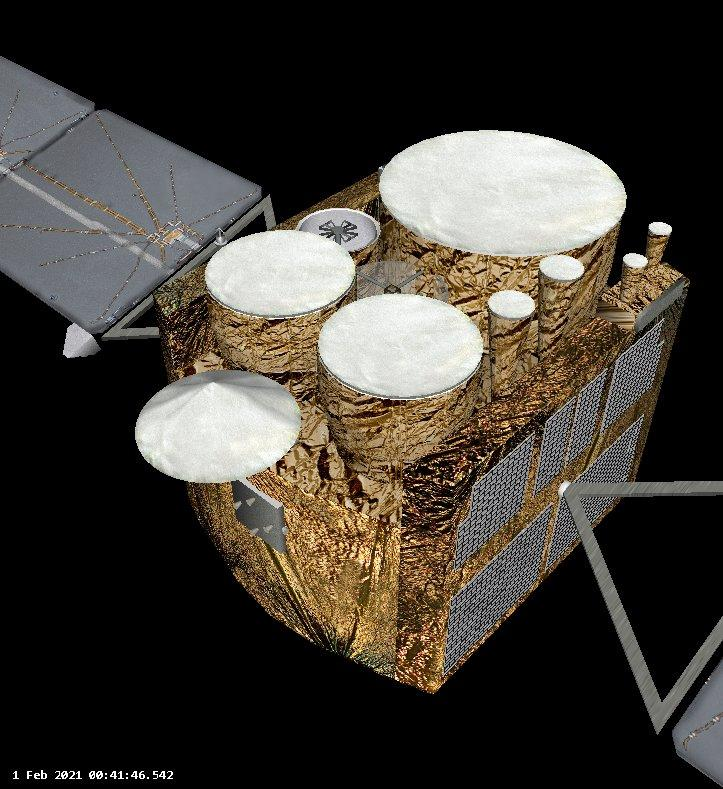antenna: (378, 127, 629, 259), (132, 367, 304, 486), (316, 292, 485, 403), (204, 229, 358, 323), (294, 206, 383, 256)
solar: (0, 52, 266, 338), (668, 657, 723, 789)
thruster: (60, 321, 104, 362)
